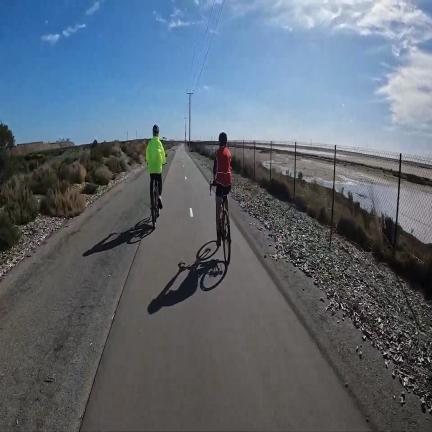Bike_Lane: (81, 149, 368, 432)
